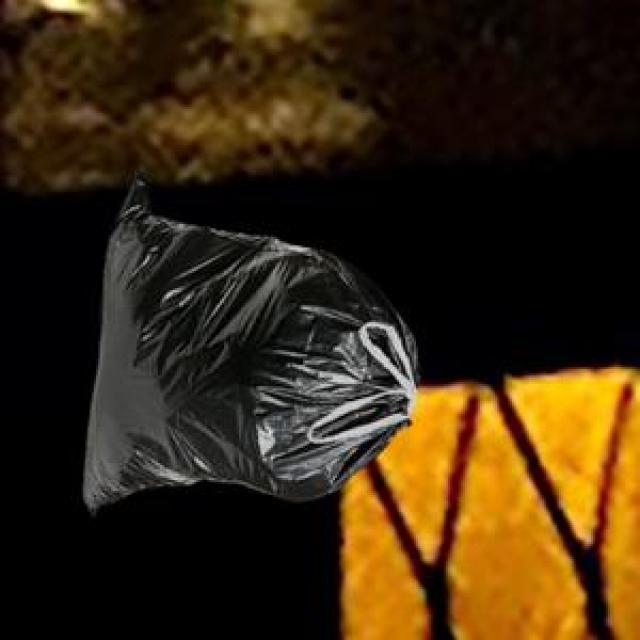Trashbag: (70, 173, 425, 519)
